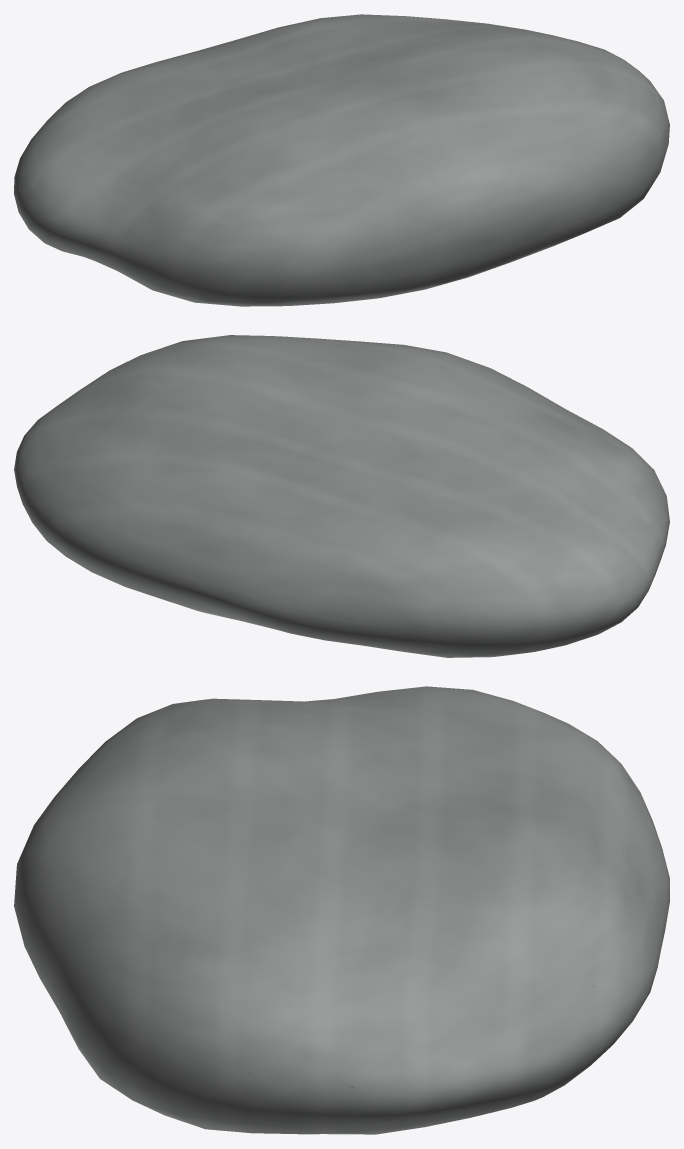
The model's file is rock_riverstone_flat.glb.
The picture shows the model from 3 angles, top to bottom: view 1: azimuth 30°, elevation 25°; view 2: azimuth 150°, elevation 25°; view 3: azimuth 270°, elevation 25°; orthographic projection. The views are drawn at different scales.
Parts seen in each view (by area): view 1: rock_riverstone_flat; view 2: rock_riverstone_flat; view 3: rock_riverstone_flat.
Boxes of the visible parts, x1=… form: rock_riverstone_flat: x1=14, y1=14, x2=669, y2=306; rock_riverstone_flat: x1=14, y1=335, x2=669, y2=657; rock_riverstone_flat: x1=14, y1=686, x2=669, y2=1134.
Size of the model in its own units: 0.8511 by 0.1851 by 0.6054.
Materials: 1 (1 with a texture image).
